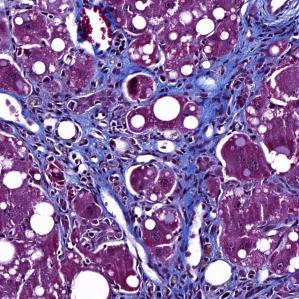fibrosis: (91, 57, 248, 139), (24, 140, 138, 210), (172, 151, 233, 267), (147, 258, 283, 299), (236, 0, 299, 60)
